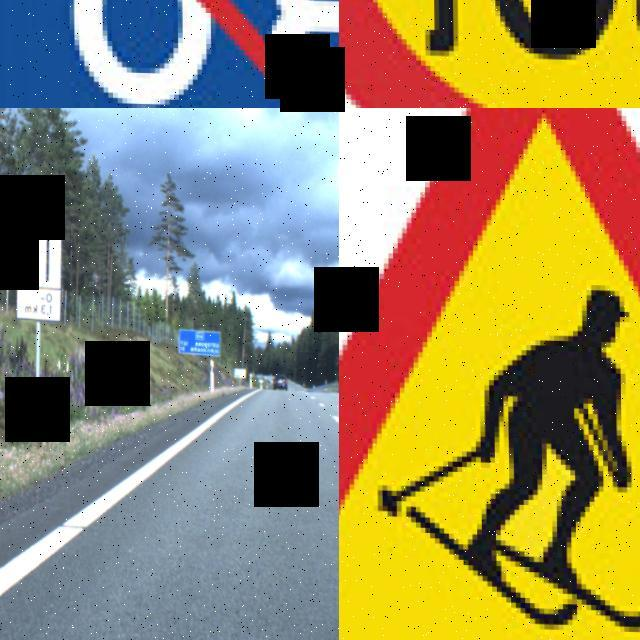103: (0, 0, 339, 108)
156: (339, 108, 640, 640)
181: (16, 286, 62, 320)
5: (175, 322, 222, 358)
66: (10, 198, 66, 289)
No vehicles or combination of vehicles exceeding weight shown: (339, 0, 640, 108)
